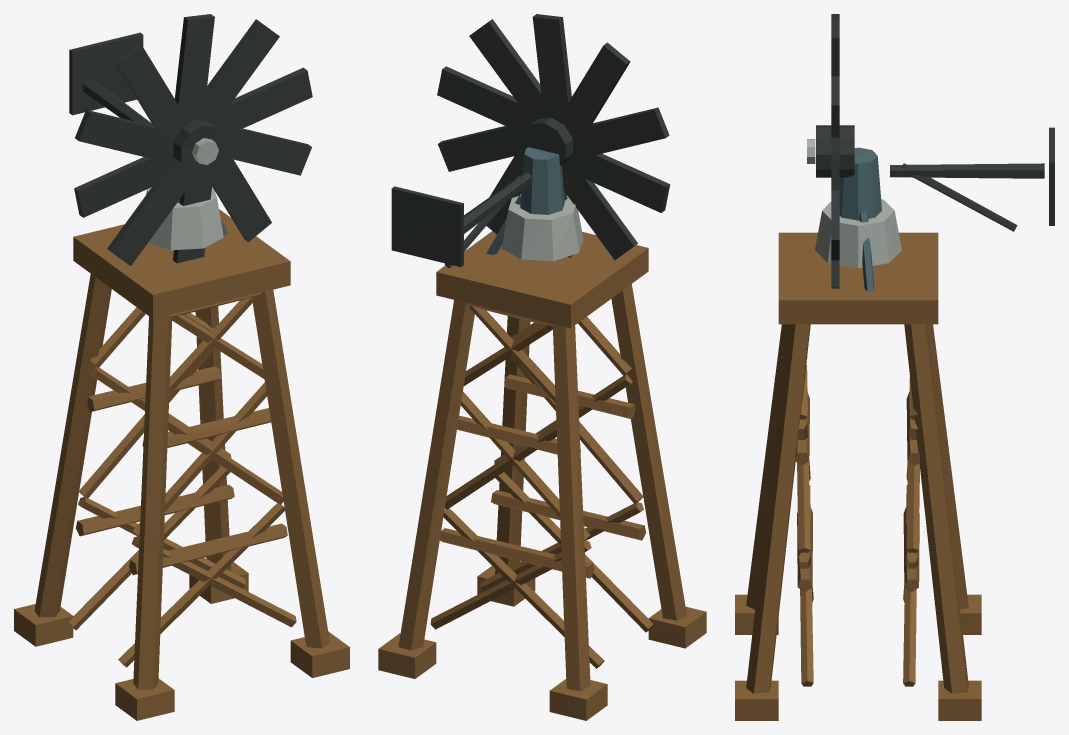
File: wind-pump.source.glb
3 renders of one model, left to right at view 1: azimuth 30°, elevation 25°; view 2: azimuth 150°, elevation 25°; view 3: azimuth 270°, elevation 25°, orthographic. The views are drawn at different scales.
Parts seen in each view (by area): view 1: wind-pump-platform-deck-mesh, wind-pump-tower-leg-3-mesh, wind-pump-tower-leg-4-mesh, wind-pump-tower-leg-1-mesh, wind-pump-tail-vane-mesh, wind-pump-blade-01-mesh, wind-pump-blade-05-mesh, wind-pump-blade-10-mesh, wind-pump-blade-04-mesh, wind-pump-blade-03-mesh, wind-pump-tower-leg-2-mesh, wind-pump-blade-09-mesh (+27 smaller); view 2: wind-pump-platform-deck-mesh, wind-pump-tower-leg-1-mesh, wind-pump-tower-leg-2-mesh, wind-pump-tower-leg-3-mesh, wind-pump-tail-vane-mesh, wind-pump-head-base-mesh, wind-pump-blade-01-mesh, wind-pump-blade-04-mesh, wind-pump-blade-09-mesh, wind-pump-blade-10-mesh, wind-pump-tower-leg-4-mesh, wind-pump-blade-02-mesh (+26 smaller); view 3: wind-pump-platform-deck-mesh, wind-pump-tower-leg-2-mesh, wind-pump-tower-leg-4-mesh, wind-pump-head-base-mesh, wind-pump-tower-leg-3-mesh, wind-pump-head-neck-mesh, wind-pump-tower-leg-1-mesh, wind-pump-tail-boom-mesh, wind-pump-rotor-hub-mesh, wind-pump-foot-block-4-mesh, wind-pump-foot-block-2-mesh, wind-pump-rear-brace-b-1-mesh (+12 smaller).
Part boxes in pixels (<box>): wind-pump-platform-deck-mesh: <box>73,209,290,318</box>; wind-pump-tower-leg-3-mesh: <box>133,315,172,689</box>; wind-pump-tower-leg-4-mesh: <box>252,290,329,648</box>; wind-pump-tower-leg-1-mesh: <box>34,274,111,617</box>; wind-pump-tail-vane-mesh: <box>69,32,143,115</box>; wind-pump-blade-01-mesh: <box>174,14,214,126</box>; wind-pump-blade-05-mesh: <box>107,162,198,266</box>; wind-pump-blade-10-mesh: <box>193,19,279,124</box>; wind-pump-blade-04-mesh: <box>74,150,181,217</box>; wind-pump-blade-03-mesh: <box>75,109,177,162</box>; wind-pump-tower-leg-2-mesh: <box>195,306,231,570</box>; wind-pump-blade-09-mesh: <box>209,67,312,129</box>; wind-pump-platform-deck-mesh: <box>436,231,648,328</box>; wind-pump-tower-leg-1-mesh: <box>552,324,590,691</box>; wind-pump-tower-leg-2-mesh: <box>398,300,474,650</box>; wind-pump-tower-leg-3-mesh: <box>611,284,686,620</box>; wind-pump-tail-vane-mesh: <box>391,186,463,267</box>; wind-pump-head-base-mesh: <box>501,196,583,261</box>; wind-pump-blade-01-mesh: <box>532,14,571,124</box>; wind-pump-blade-04-mesh: <box>565,145,670,212</box>; wind-pump-blade-09-mesh: <box>437,66,537,133</box>; wind-pump-blade-10-mesh: <box>469,19,554,120</box>; wind-pump-tower-leg-4-mesh: <box>495,316,530,574</box>; wind-pump-blade-02-mesh: <box>562,42,630,141</box>; wind-pump-platform-deck-mesh: <box>778,232,938,324</box>; wind-pump-tower-leg-2-mesh: <box>904,324,968,693</box>; wind-pump-tower-leg-4-mesh: <box>746,324,810,693</box>; wind-pump-head-base-mesh: <box>815,199,901,268</box>; wind-pump-tower-leg-3-mesh: <box>746,324,787,609</box>; wind-pump-head-neck-mesh: <box>839,147,881,220</box>; wind-pump-tower-leg-1-mesh: <box>927,324,968,609</box>; wind-pump-tail-boom-mesh: <box>890,163,1044,178</box>; wind-pump-rotor-hub-mesh: <box>816,125,854,177</box>; wind-pump-foot-block-4-mesh: <box>735,680,778,720</box>; wind-pump-foot-block-2-mesh: <box>938,680,981,720</box>; wind-pump-rear-brace-b-1-mesh: <box>903,485,916,686</box>.
Bounding box in the file's own units: 1.12 × 2.94 × 1.32.
